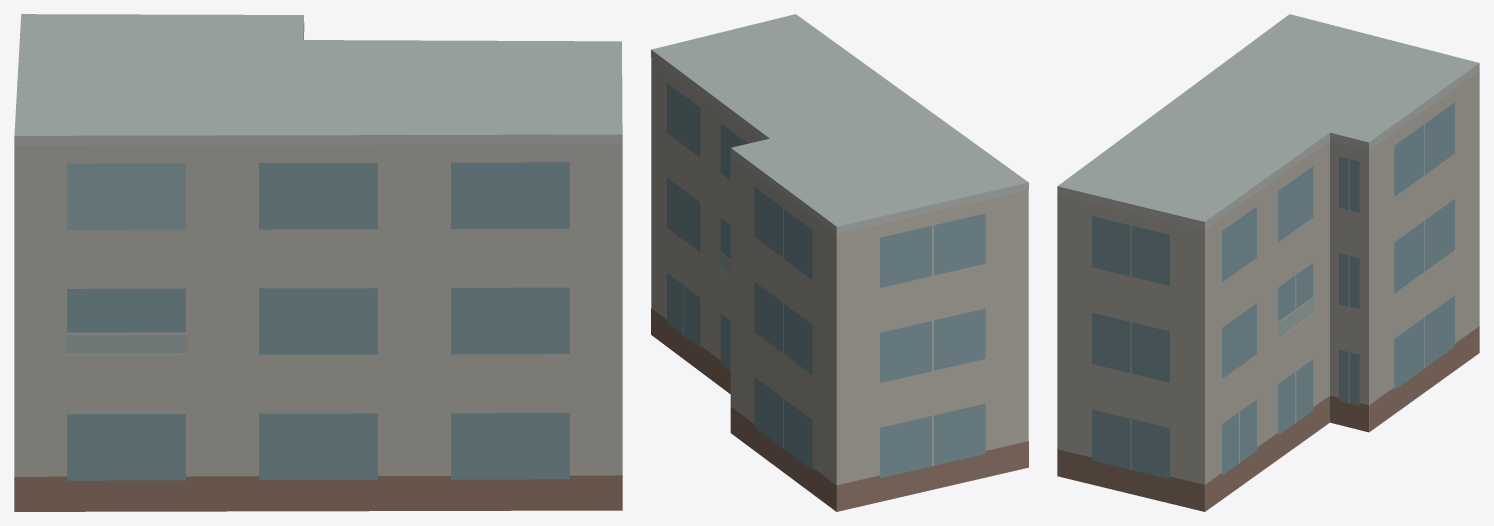
The model's file is survey-upis-33008927.glb.
3 renders of one model, left to right at view 1: azimuth 30°, elevation 25°; view 2: azimuth 150°, elevation 25°; view 3: azimuth 270°, elevation 25°, orthographic. The views are drawn at different scales.
Visible parts, largest first — view 1: survey-upis-33008927.tmp; view 2: survey-upis-33008927.tmp; view 3: survey-upis-33008927.tmp.
Boxes of the visible parts, bbox=[...] form: survey-upis-33008927.tmp: bbox=[14, 14, 622, 511]; survey-upis-33008927.tmp: bbox=[651, 14, 1028, 511]; survey-upis-33008927.tmp: bbox=[1057, 14, 1479, 511].
Bounding box in the file's own units: 14.01 × 9.1 × 12.02.
